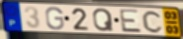2: (71, 7, 91, 31)
3: (24, 5, 42, 30)
C: (141, 9, 164, 34)
E: (118, 8, 144, 34)
G: (44, 6, 66, 31)
Q: (92, 7, 115, 32)
